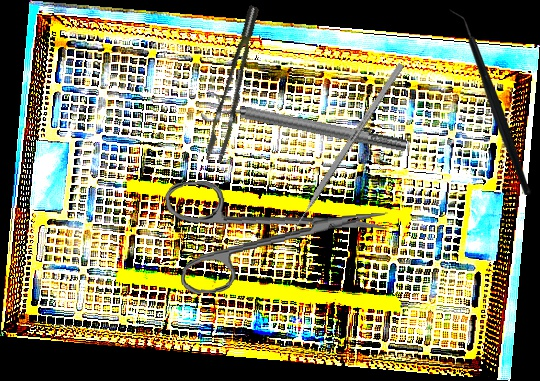Chopper: (449, 9, 531, 195)
Fixation Ring: (199, 87, 410, 165)
Iris Scissors: (163, 168, 393, 296)
Pusher: (282, 62, 405, 245)
Tissue Forceps: (190, 4, 280, 166)
